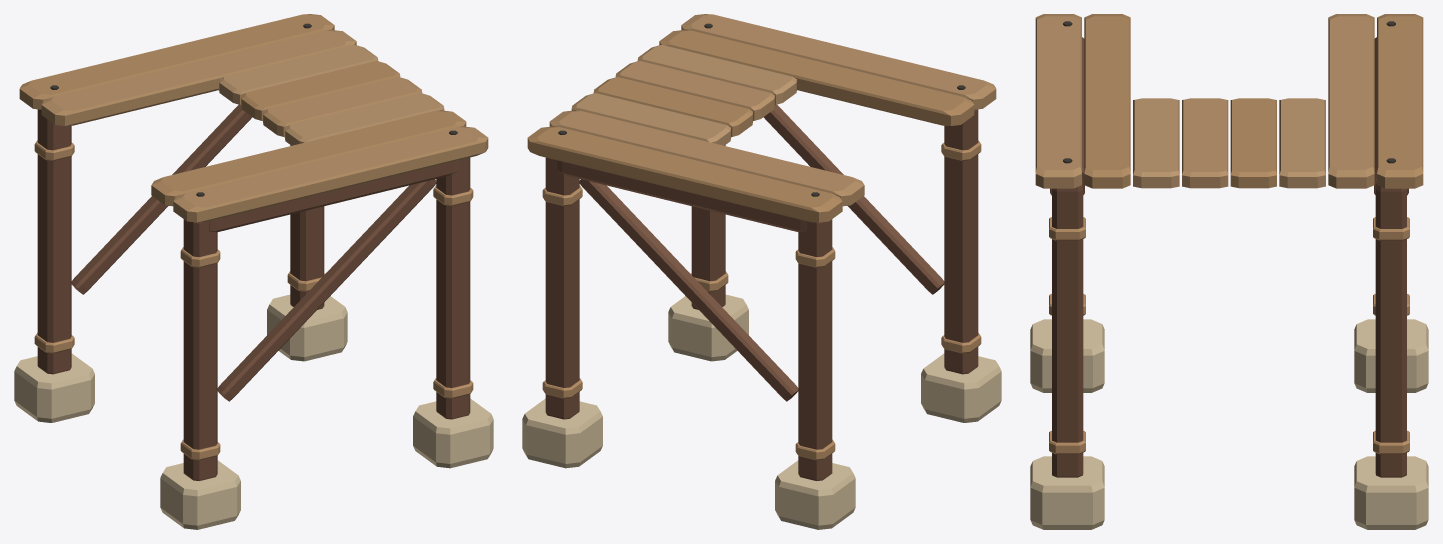
The model's file is landing.glb.
3 views of the same model, side by side, from view 1: azimuth 30°, elevation 25°; view 2: azimuth 150°, elevation 25°; view 3: azimuth 270°, elevation 25° (orthographic). The views are drawn at different scales.
Parts seen in each view (by area): view 1: FloorPlank_07, FloorPlank_01, Post2, Post, Post4, FloorPlank_06, FloorPlank_00, CrossBrace2, StoneFoot2, StoneFoot4, StoneFoot, CrossBrace (+7 smaller); view 2: FloorPlank_00, FloorPlank_06, Post, Post2, Post3, FloorPlank_01, FloorPlank_07, CrossBrace, StoneFoot, StoneFoot3, StoneFoot2, CrossBrace2 (+7 smaller); view 3: Post3, Post4, FloorPlank_01, FloorPlank_06, FloorPlank_00, FloorPlank_07, StoneFoot3, StoneFoot4, FloorPlank_02, FloorPlank_03, FloorPlank_04, FloorPlank_05 (+8 smaller).
Part boxes in pixels (x1,y1,x2,y2): FloorPlank_07: (173, 126, 488, 222); FloorPlank_01: (41, 30, 356, 125); Post2: (183, 219, 217, 480); Post: (37, 109, 71, 374); Post4: (436, 157, 470, 419); FloorPlank_06: (151, 110, 466, 206); FloorPlank_00: (19, 14, 334, 109); CrossBrace2: (217, 179, 437, 401); StoneFoot2: (160, 460, 240, 529); StoneFoot4: (413, 398, 493, 468); StoneFoot: (14, 353, 94, 422); CrossBrace: (71, 104, 252, 294); FloorPlank_00: (527, 126, 842, 222); FloorPlank_06: (659, 30, 974, 125); Post: (798, 219, 832, 480); Post2: (944, 109, 978, 374); Post3: (545, 157, 579, 419); FloorPlank_01: (549, 110, 864, 206); FloorPlank_07: (681, 14, 996, 109); CrossBrace: (578, 179, 798, 401); StoneFoot: (775, 460, 855, 529); StoneFoot3: (522, 398, 602, 468); StoneFoot2: (921, 353, 1001, 422); CrossBrace2: (763, 104, 944, 294); Post3: (1375, 178, 1406, 477); Post4: (1052, 178, 1083, 477); FloorPlank_01: (1328, 14, 1374, 188); FloorPlank_06: (1084, 14, 1130, 188); FloorPlank_00: (1377, 14, 1423, 188); FloorPlank_07: (1035, 14, 1081, 188); StoneFoot3: (1354, 456, 1428, 529); StoneFoot4: (1030, 456, 1104, 529); FloorPlank_02: (1279, 98, 1325, 188); FloorPlank_03: (1230, 98, 1276, 188); FloorPlank_04: (1182, 98, 1228, 188); FloorPlank_05: (1133, 98, 1179, 188).
Bounding box in the file's own units: 2.04 × 2.01 × 2.04.
